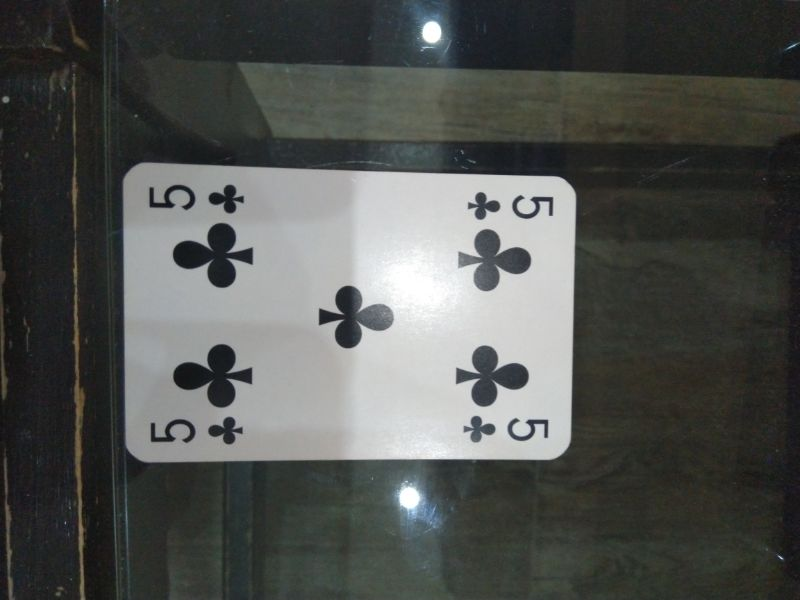5c: (145, 174, 250, 219), (145, 412, 254, 450), (461, 184, 561, 224), (453, 411, 557, 448)
